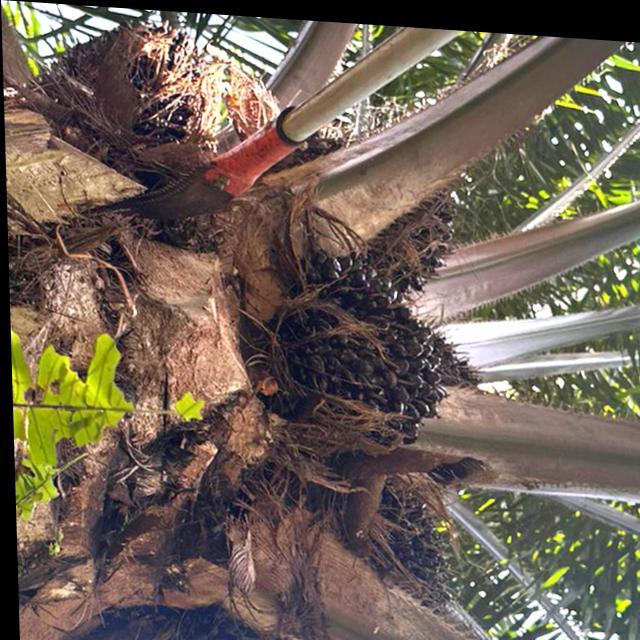unripe: (271, 251, 442, 458), (61, 3, 244, 165), (344, 176, 467, 304), (364, 473, 453, 621)
